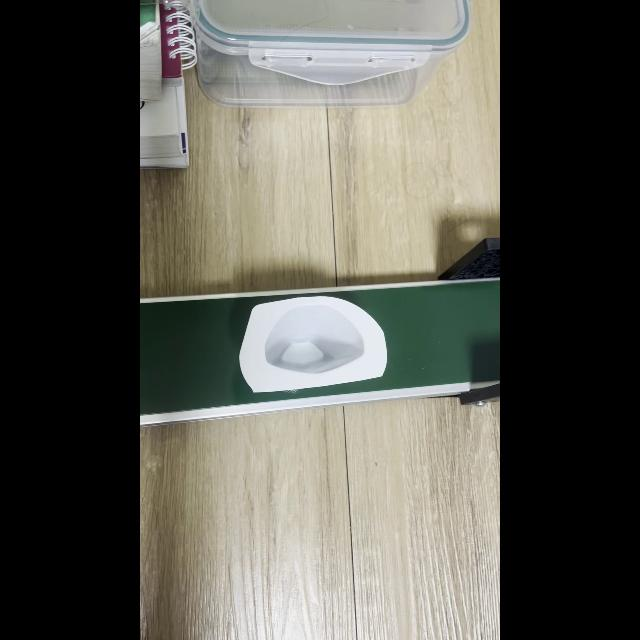clean: (238, 295, 388, 393)
